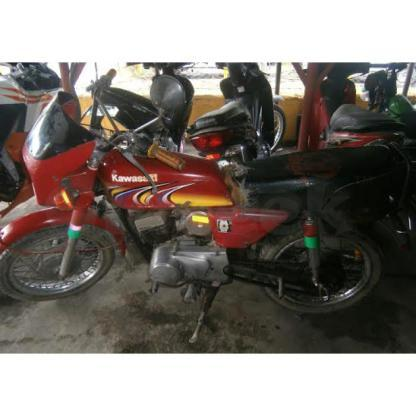Motorcycle: (0, 75, 415, 328)
